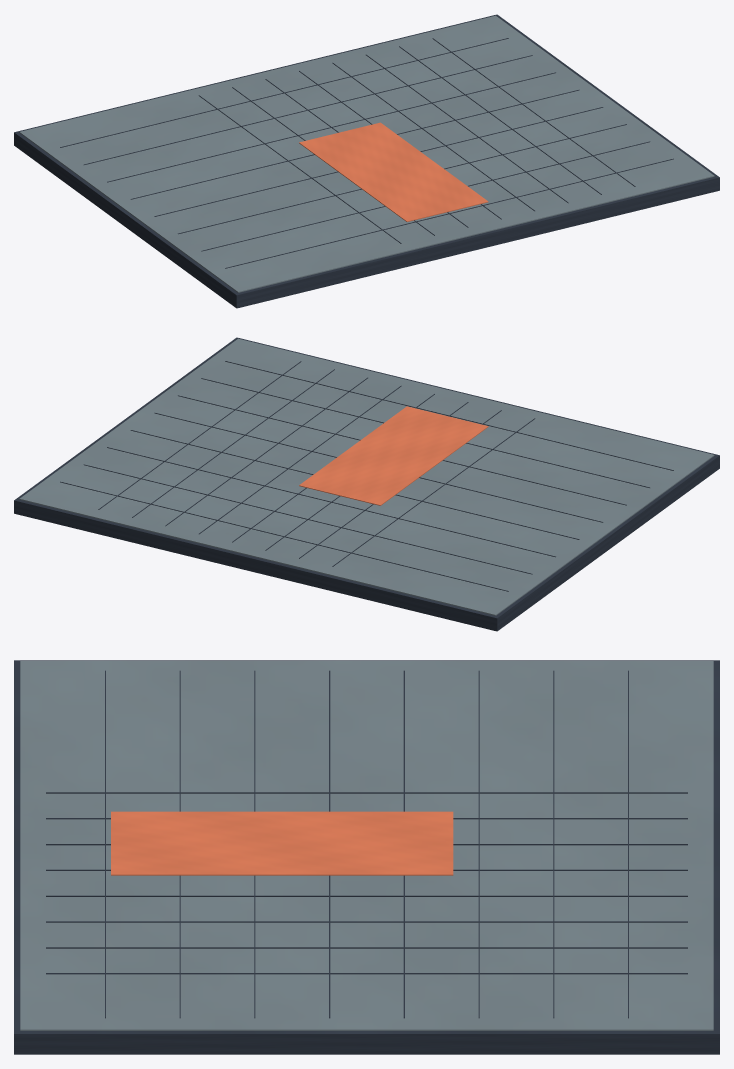
File: atlas100-s026-a07.lod1.glb
3 views of the same model, one above another, from view 1: azimuth 30°, elevation 25°; view 2: azimuth 150°, elevation 25°; view 3: azimuth 270°, elevation 25° (orthographic). The views are drawn at different scales.
Parts seen in each view (by area): view 1: atlas100-s026-a07:part-001, atlas100-s026-a07:part-000, atlas100-s026-a07:part-021, atlas100-s026-a07:part-015, atlas100-s026-a07:part-014, atlas100-s026-a07:part-013, atlas100-s026-a07:part-020, atlas100-s026-a07:part-019, atlas100-s026-a07:part-017, atlas100-s026-a07:part-016, atlas100-s026-a07:part-018; view 2: atlas100-s026-a07:part-001, atlas100-s026-a07:part-000, atlas100-s026-a07:part-021, atlas100-s026-a07:part-014, atlas100-s026-a07:part-013, atlas100-s026-a07:part-020, atlas100-s026-a07:part-015, atlas100-s026-a07:part-016, atlas100-s026-a07:part-019, atlas100-s026-a07:part-018, atlas100-s026-a07:part-017; view 3: atlas100-s026-a07:part-001, atlas100-s026-a07:part-000, atlas100-s026-a07:part-021, atlas100-s026-a07:part-005, atlas100-s026-a07:part-009, atlas100-s026-a07:part-010, atlas100-s026-a07:part-011, atlas100-s026-a07:part-012, atlas100-s026-a07:part-014, atlas100-s026-a07:part-015.
Boxes of the visible parts, <box> form: atlas100-s026-a07:part-001: <box>19,15,714,292</box>; atlas100-s026-a07:part-000: <box>14,14,719,308</box>; atlas100-s026-a07:part-021: <box>299,122,488,221</box>; atlas100-s026-a07:part-015: <box>107,72,555,182</box>; atlas100-s026-a07:part-014: <box>84,55,532,164</box>; atlas100-s026-a07:part-013: <box>60,38,508,147</box>; atlas100-s026-a07:part-020: <box>225,158,673,268</box>; atlas100-s026-a07:part-019: <box>201,141,650,251</box>; atlas100-s026-a07:part-017: <box>154,107,603,216</box>; atlas100-s026-a07:part-016: <box>130,89,579,199</box>; atlas100-s026-a07:part-018: <box>178,124,626,234</box>; atlas100-s026-a07:part-001: <box>19,338,714,615</box>; atlas100-s026-a07:part-000: <box>14,337,719,631</box>; atlas100-s026-a07:part-021: <box>299,406,488,505</box>; atlas100-s026-a07:part-014: <box>83,464,532,574</box>; atlas100-s026-a07:part-013: <box>60,481,508,591</box>; atlas100-s026-a07:part-020: <box>225,361,673,470</box>; atlas100-s026-a07:part-015: <box>107,447,555,557</box>; atlas100-s026-a07:part-016: <box>130,430,579,539</box>; atlas100-s026-a07:part-019: <box>201,378,649,487</box>; atlas100-s026-a07:part-018: <box>178,395,626,505</box>; atlas100-s026-a07:part-017: <box>154,412,603,522</box>; atlas100-s026-a07:part-001: <box>20,661,713,1030</box>; atlas100-s026-a07:part-000: <box>14,660,719,1054</box>; atlas100-s026-a07:part-021: <box>111,811,453,875</box>; atlas100-s026-a07:part-005: <box>46,792,687,793</box>; atlas100-s026-a07:part-009: <box>46,895,687,896</box>; atlas100-s026-a07:part-010: <box>46,921,687,922</box>; atlas100-s026-a07:part-011: <box>46,947,687,948</box>; atlas100-s026-a07:part-012: <box>46,973,687,974</box>; atlas100-s026-a07:part-014: <box>553,670,554,1018</box>; atlas100-s026-a07:part-015: <box>478,670,479,1018</box>.
Bounding box in the file's own units: 13.02 × 0.404 × 10.4.
Materials: 3 (3 with a texture image).
